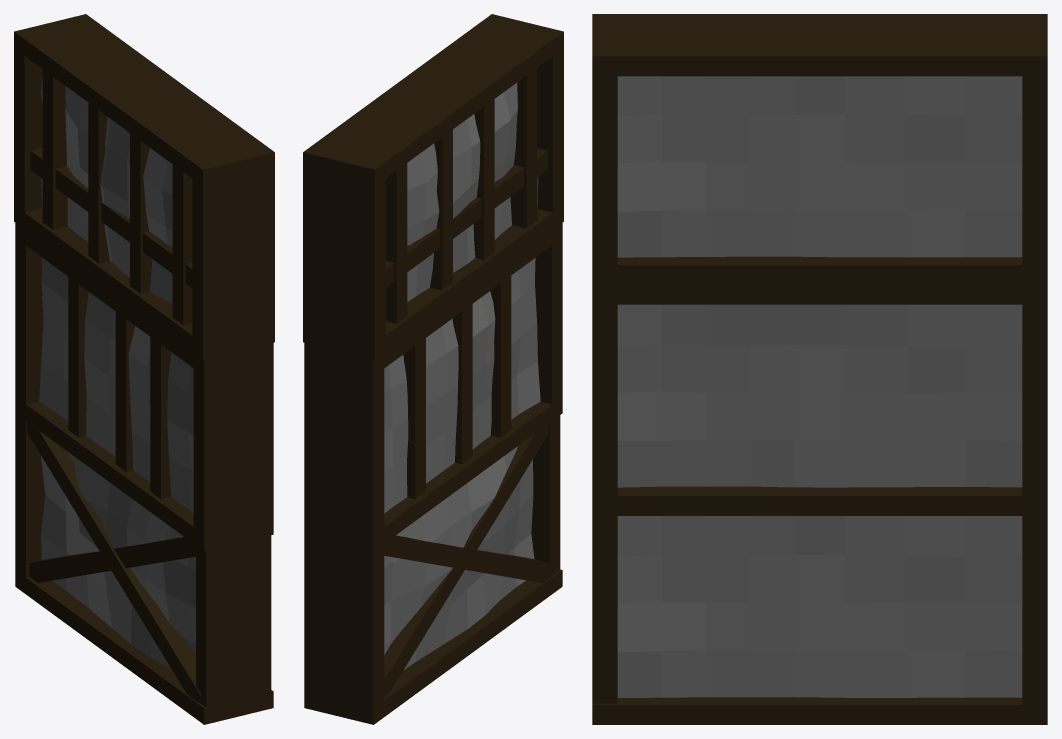
The model's file is wall_exterior_b.fbx.
3 views of the same model, side by side, from view 1: azimuth 30°, elevation 25°; view 2: azimuth 150°, elevation 25°; view 3: azimuth 270°, elevation 25° (orthographic). The views are drawn at different scales.
Visible parts, largest first — view 1: Wall_Exterior_B.001; view 2: Wall_Exterior_B.001; view 3: Wall_Exterior_B.001.
Part boxes in pixels (x1,y1,x2,y2): Wall_Exterior_B.001: (14, 14, 274, 724); Wall_Exterior_B.001: (303, 14, 563, 724); Wall_Exterior_B.001: (592, 14, 1047, 724).
Bounding box in the file's own units: 106 × 780 × 481.
